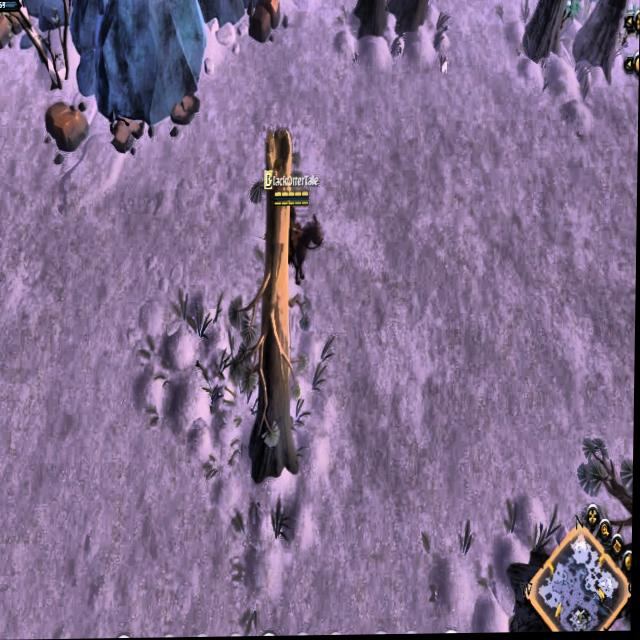limestone: (44, 97, 90, 154), (245, 0, 284, 44), (0, 8, 27, 48)
